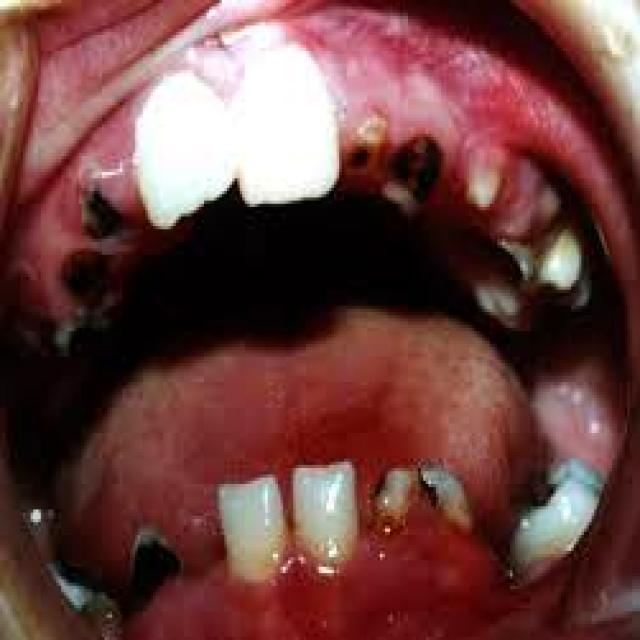cariess: (59, 185, 133, 341), (510, 462, 597, 573), (347, 124, 441, 210), (372, 462, 469, 532), (117, 538, 181, 592), (82, 185, 125, 236), (54, 560, 112, 589)
